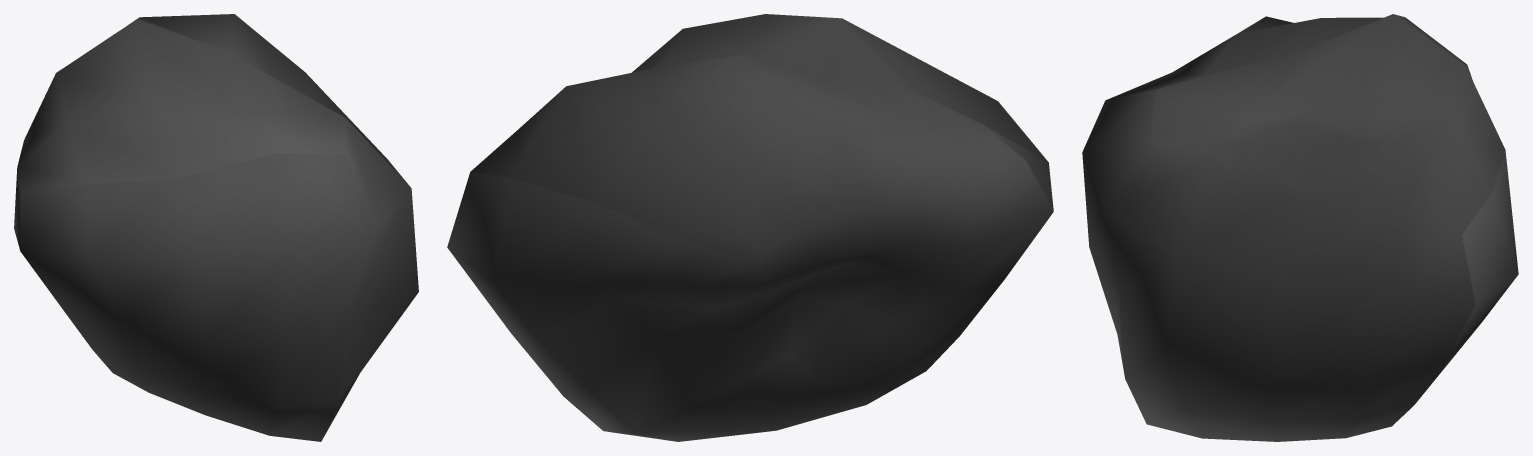
File: Roca4.fbx
3 renders of one model, left to right at view 1: azimuth 30°, elevation 25°; view 2: azimuth 150°, elevation 25°; view 3: azimuth 270°, elevation 25°, orthographic. The views are drawn at different scales.
Visible parts, largest first — view 1: Cube.001; view 2: Cube.001; view 3: Cube.001.
Boxes of the visible parts, <box> form: Cube.001: <box>14,14,418,441</box>; Cube.001: <box>447,14,1053,441</box>; Cube.001: <box>1082,14,1518,441</box>.
Size of the model in its own units: 81.65 by 69.71 by 72.66.
